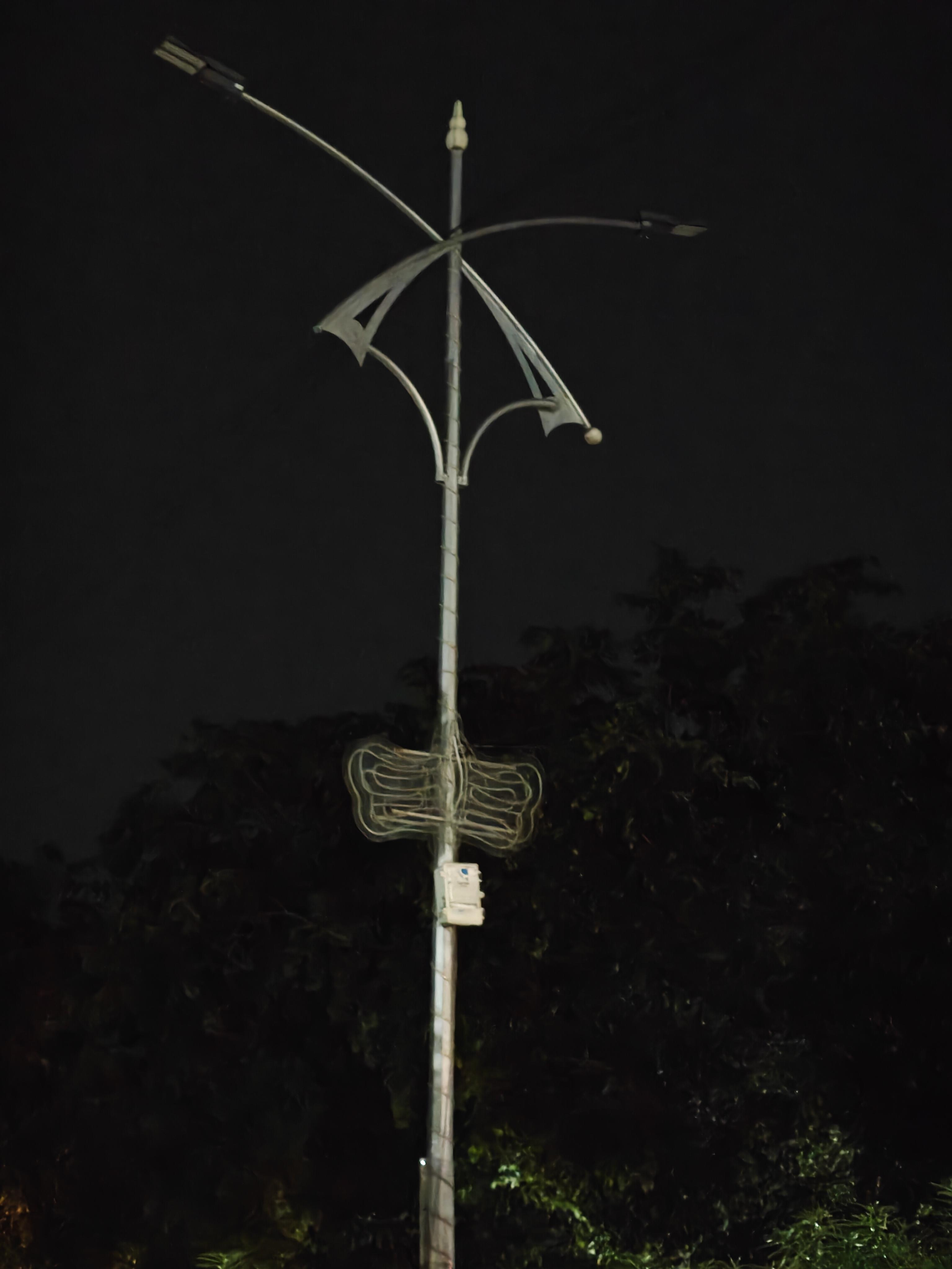streetlight: (148, 32, 436, 241), (484, 201, 712, 245)
